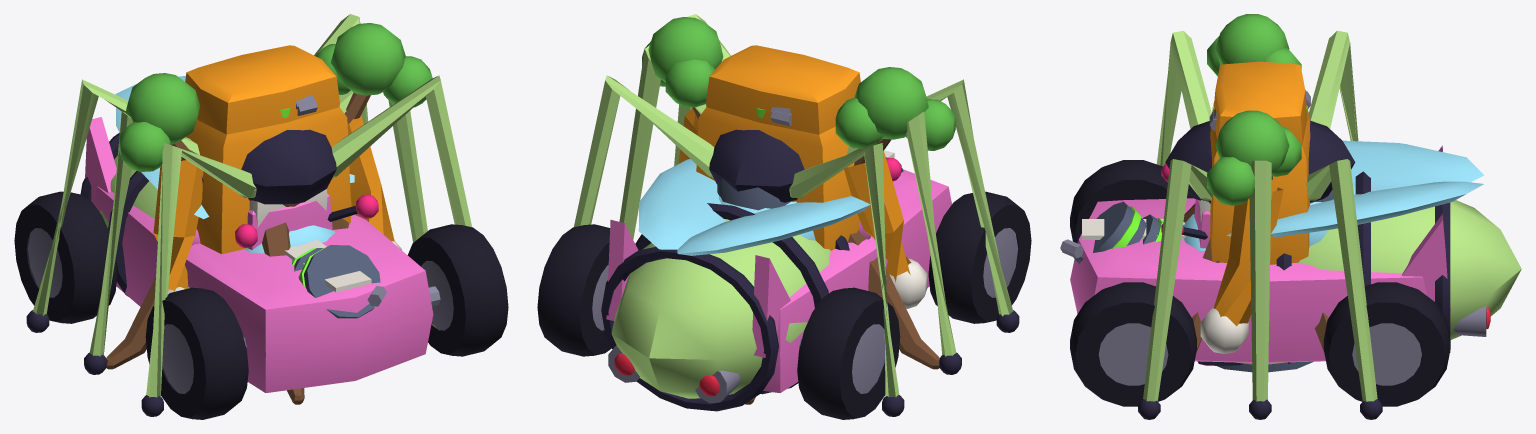
File: chimera_kit_b.glb
The picture shows the model from 3 angles, left to right: view 1: azimuth 30°, elevation 25°; view 2: azimuth 150°, elevation 25°; view 3: azimuth 270°, elevation 25°; orthographic projection. The views are drawn at different scales.
Visible parts, largest first — view 1: ck_body_car_hull, ck_body_sapling_leaves, ck_legs_person_pelvis, ck_legs_car_wheelLF_tire, ck_legs_car_wheelRF_tire, ck_legs_car_wheelLB_tire, ck_body_person_torso, ck_legs_mite_thorax, ck_legs_mite_legL2_seg, ck_legs_mite_legR2_seg, ck_legs_mite_legL0_seg, ck_body_person_armL_a (+21 smaller); view 2: ck_body_mite_abdomen, ck_body_sapling_leaves, ck_legs_person_pelvis, ck_legs_car_wheelLB_tire, ck_legs_car_wheelLF_tire, ck_body_mite_bands, ck_body_car_hull, ck_legs_car_wheelRB_tire, ck_body_mite_wing1, ck_body_person_torso, ck_body_mite_wing-1, ck_legs_mite_legR0_seg (+15 smaller); view 3: ck_body_car_hull, ck_body_mite_abdomen, ck_body_sapling_leaves, ck_legs_car_wheelRB_tire, ck_legs_car_wheelRF_tire, ck_legs_person_pelvis, ck_legs_mite_legR0_seg, ck_legs_mite_legR2_seg, ck_body_mite_wing-1, ck_legs_mite_legR1_seg, ck_body_mite_wing1, ck_body_person_torso (+15 smaller).
Part boxes in pixels (x1,y1,x2,y2): ck_body_car_hull: [94, 186, 433, 392]; ck_body_sapling_leaves: [119, 23, 432, 171]; ck_legs_person_pelvis: [185, 45, 339, 134]; ck_legs_car_wheelLF_tire: [145, 287, 248, 419]; ck_legs_car_wheelRF_tire: [407, 224, 508, 356]; ck_legs_car_wheelLB_tire: [14, 191, 117, 323]; ck_body_person_torso: [186, 107, 350, 254]; ck_legs_mite_thorax: [241, 129, 336, 204]; ck_legs_mite_legL2_seg: [146, 143, 256, 397]; ck_legs_mite_legR2_seg: [331, 75, 471, 227]; ck_legs_mite_legL0_seg: [33, 79, 128, 315]; ck_body_person_armL_a: [153, 160, 203, 291]; ck_body_mite_abdomen: [611, 219, 830, 398]; ck_body_sapling_leaves: [642, 17, 955, 150]; ck_legs_person_pelvis: [706, 45, 860, 134]; ck_legs_car_wheelLB_tire: [797, 287, 900, 419]; ck_legs_car_wheelLF_tire: [928, 191, 1031, 323]; ck_body_mite_bands: [601, 203, 849, 411]; ck_body_car_hull: [763, 169, 951, 392]; ck_legs_car_wheelRB_tire: [537, 224, 611, 356]; ck_body_mite_wing1: [638, 159, 725, 249]; ck_body_person_torso: [696, 107, 860, 250]; ck_body_mite_wing-1: [677, 196, 870, 255]; ck_legs_mite_legR0_seg: [574, 75, 714, 227]; ck_body_car_hull: [1070, 198, 1426, 362]; ck_body_mite_abdomen: [1299, 190, 1521, 339]; ck_body_sapling_leaves: [1207, 14, 1301, 205]; ck_legs_car_wheelRB_tire: [1323, 282, 1450, 406]; ck_legs_car_wheelRF_tire: [1070, 282, 1196, 406]; ck_legs_person_pelvis: [1214, 61, 1307, 146]; ck_legs_mite_legR0_seg: [1306, 159, 1377, 401]; ck_legs_mite_legR2_seg: [1143, 159, 1212, 401]; ck_body_mite_wing-1: [1343, 140, 1484, 190]; ck_legs_mite_legR1_seg: [1249, 160, 1272, 401]; ck_body_mite_wing1: [1226, 181, 1483, 237]; ck_body_person_torso: [1210, 101, 1310, 264].
Bounding box in the file's own units: 0.9921 × 0.816 × 1.17.
